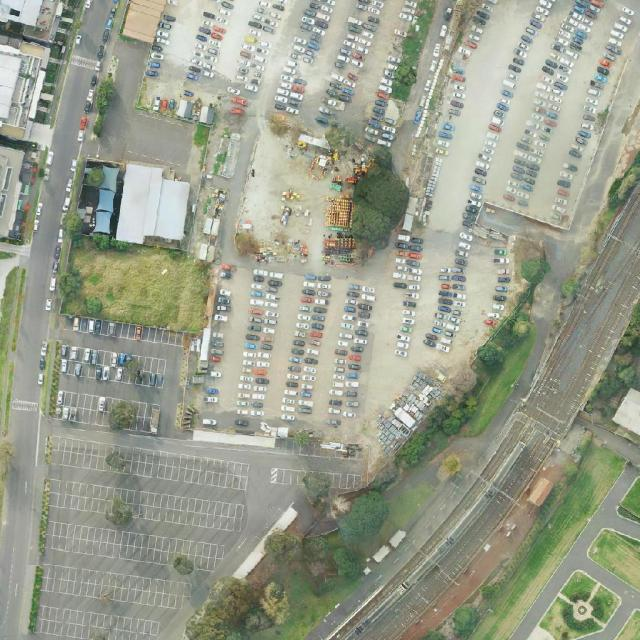building: (116, 163, 192, 249), (0, 34, 49, 140), (0, 146, 24, 237), (93, 166, 119, 234), (612, 387, 640, 434)
dryland: (233, 127, 345, 268)
greenland: (392, 240, 583, 496), (466, 439, 629, 640), (170, 508, 348, 640), (58, 234, 214, 335), (284, 485, 412, 605), (331, 145, 427, 256), (419, 581, 510, 640), (388, 0, 438, 102), (586, 521, 640, 589), (64, 158, 107, 237), (600, 150, 640, 212), (83, 75, 119, 136), (300, 472, 332, 513)
metalled_road: (280, 307, 589, 640), (19, 388, 371, 640), (3, 62, 100, 405), (84, 37, 212, 179), (45, 328, 191, 439), (0, 408, 49, 640), (197, 111, 263, 263), (573, 416, 640, 466), (477, 201, 547, 246), (536, 225, 588, 285)
